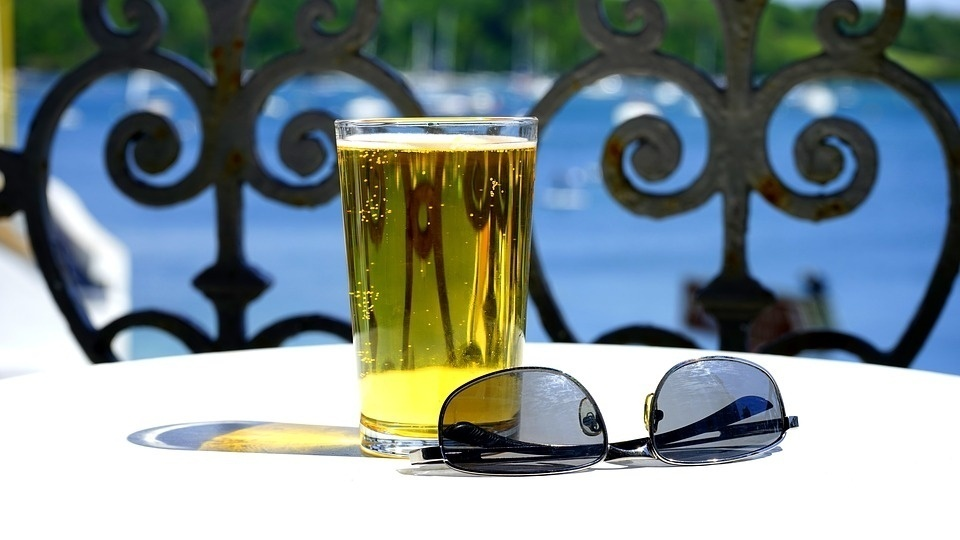whiskey: (350, 110, 544, 465)
